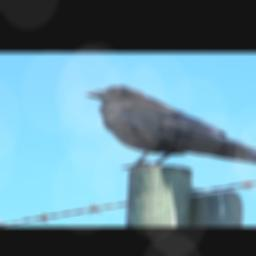Crow: (82, 85, 256, 170)
